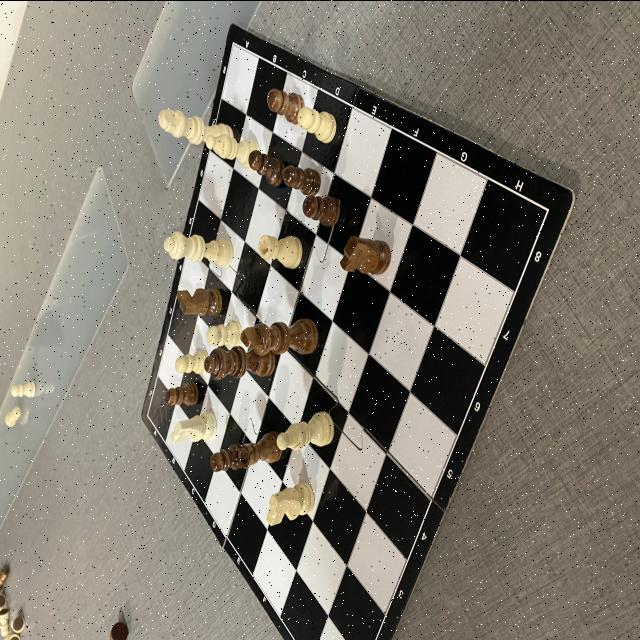Black-King: (241, 318, 317, 356)
Black-Knight: (340, 236, 392, 274), (174, 286, 223, 316)
Black-Pawn: (248, 146, 284, 186), (266, 88, 304, 122), (302, 194, 341, 226), (282, 166, 320, 192), (211, 442, 245, 471), (164, 383, 200, 404)
Black-Queen: (204, 348, 276, 377)
Black-Rook: (239, 432, 283, 464)
White-Bishop: (276, 412, 334, 449), (204, 133, 258, 166)
White-King: (158, 108, 232, 152)
White-Knight: (266, 482, 314, 524), (172, 412, 216, 440)
White-Pawn: (297, 107, 335, 143), (207, 322, 240, 346), (174, 350, 208, 372)
White-Queen: (164, 230, 234, 268)
White-Rook: (257, 233, 304, 268)
